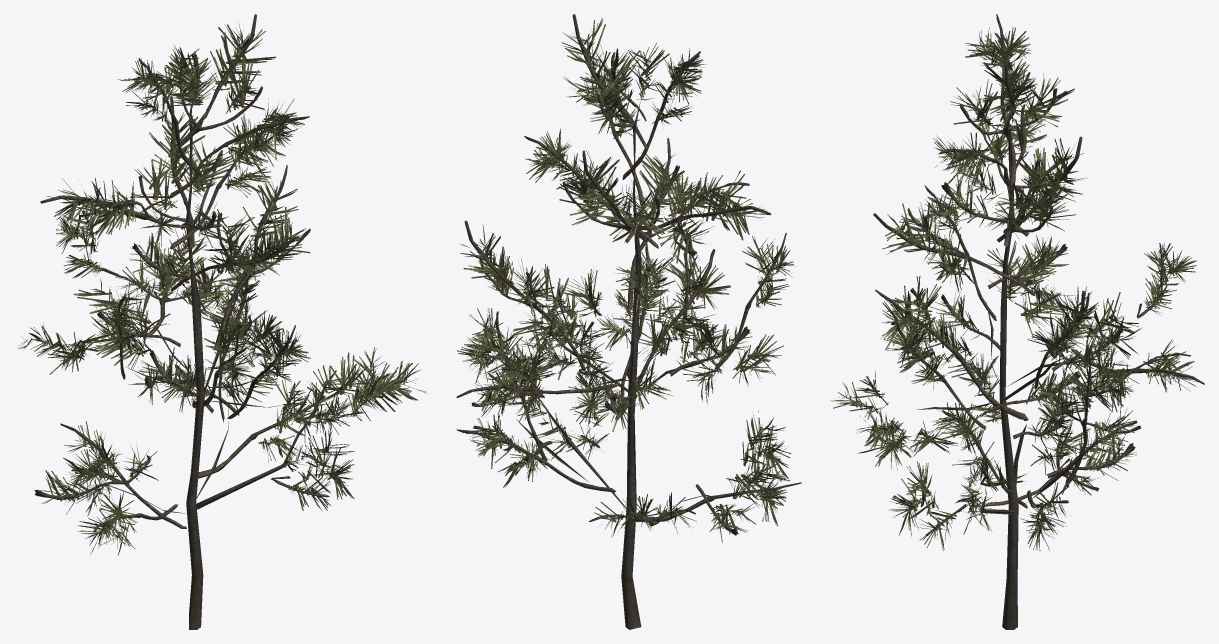
The model's file is pine.glb.
3 views of the same model, side by side, from view 1: azimuth 30°, elevation 25°; view 2: azimuth 150°, elevation 25°; view 3: azimuth 270°, elevation 25° (orthographic).
Visible parts, largest first — view 1: pine_sapling_small_a; view 2: pine_sapling_small_a; view 3: pine_sapling_small_a.
Part boxes in pixels (x1,y1,x2,y2): pine_sapling_small_a: (18,14,426,629); pine_sapling_small_a: (456,14,801,629); pine_sapling_small_a: (830,14,1204,629).
Size of the model in its own units: 0.7996 by 1.32 by 0.7548.
Materials: 2 (2 with a texture image).
